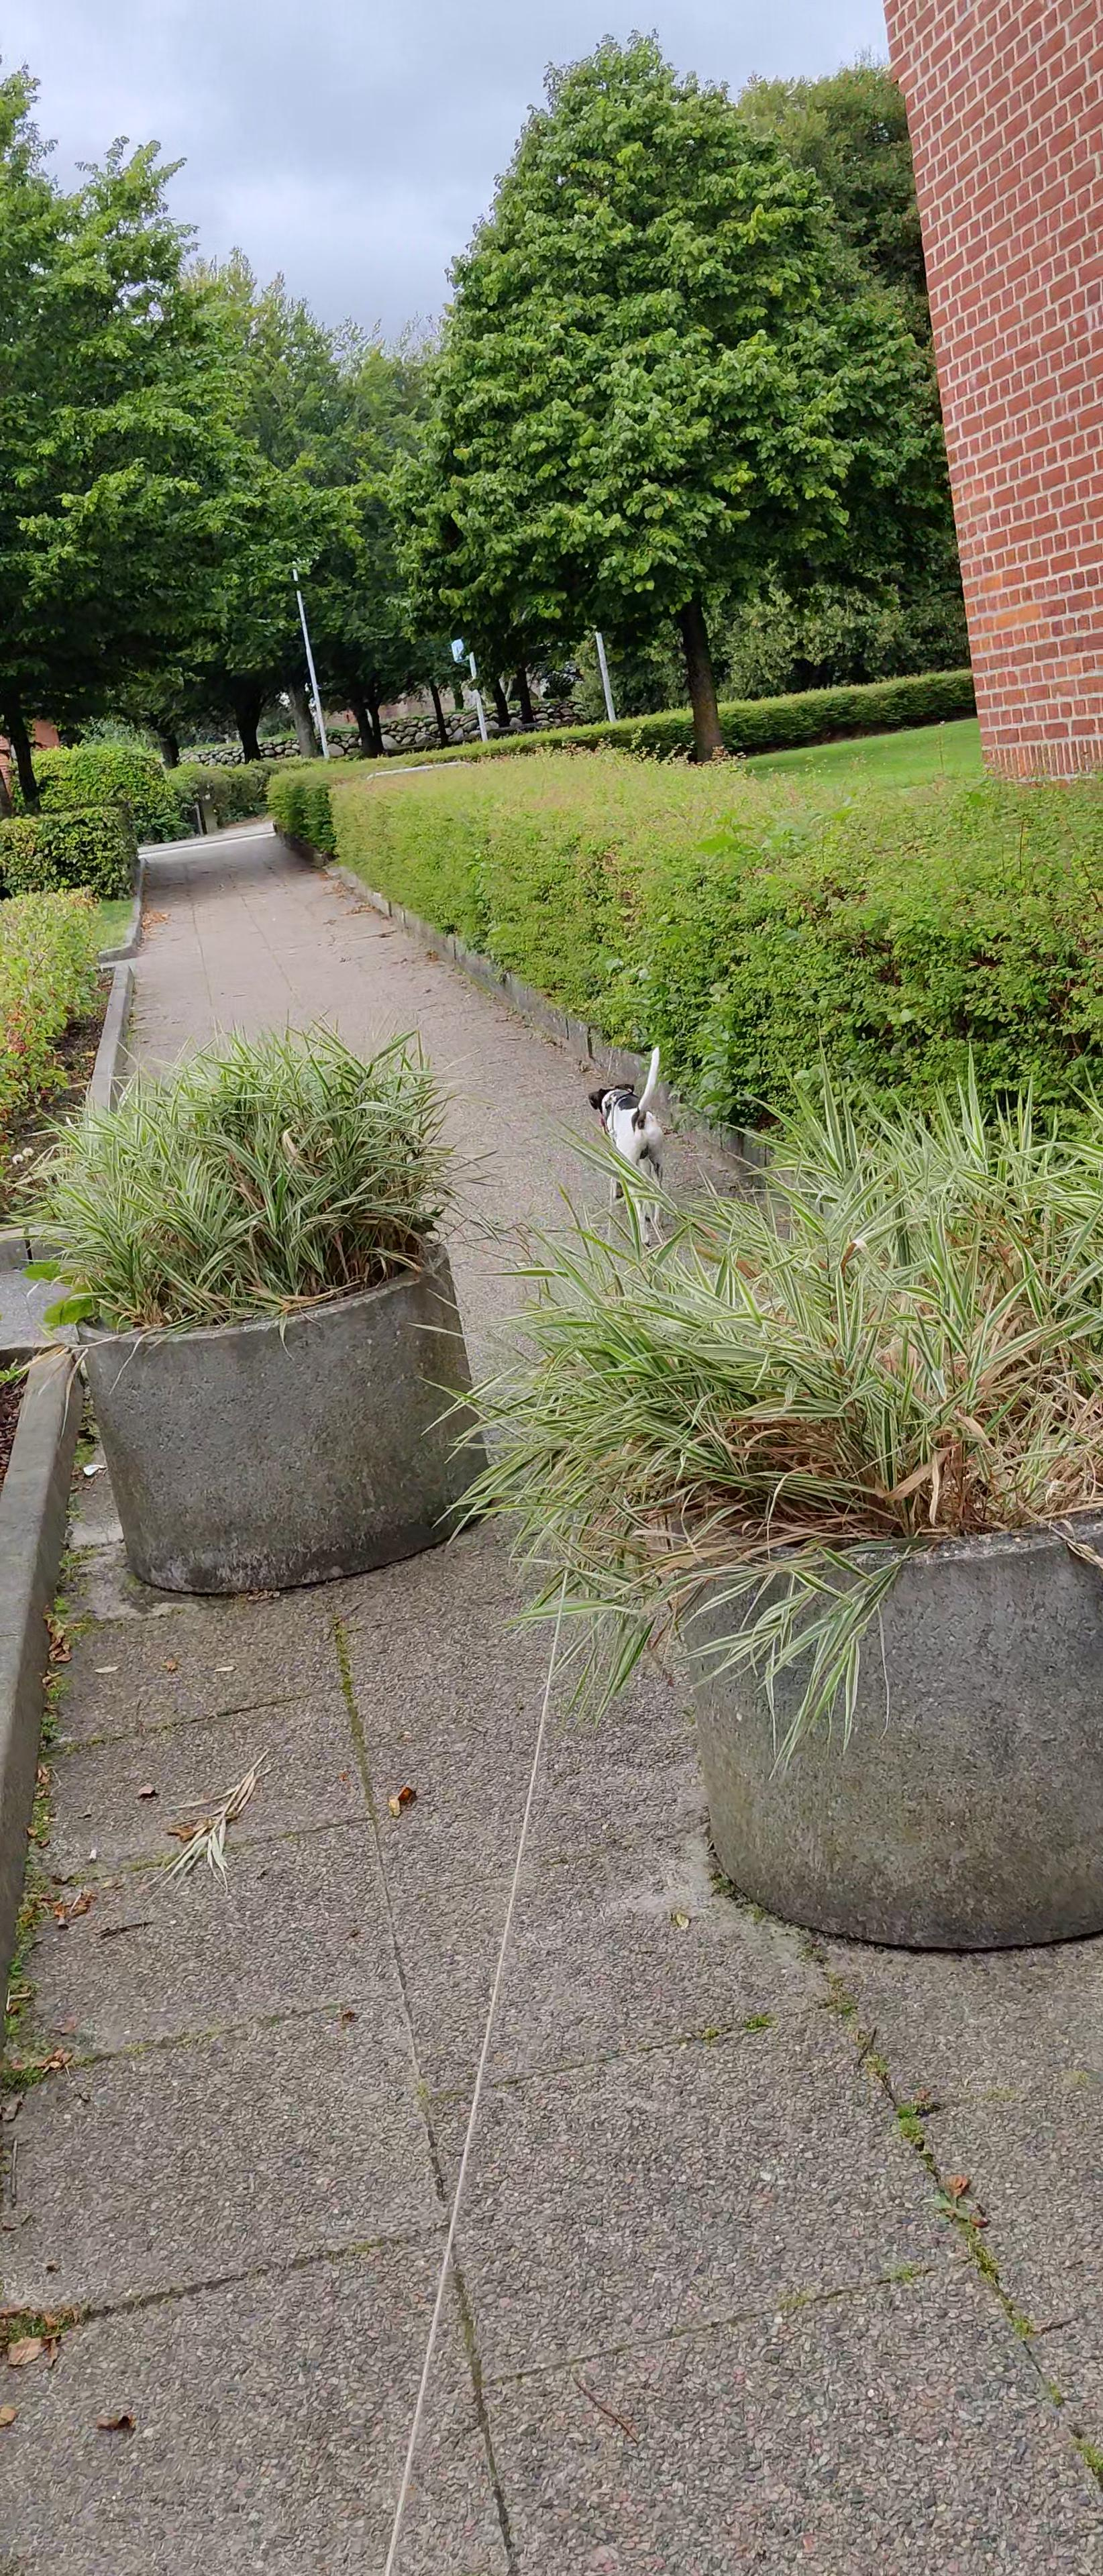Dog: (587, 1040, 674, 1249)
